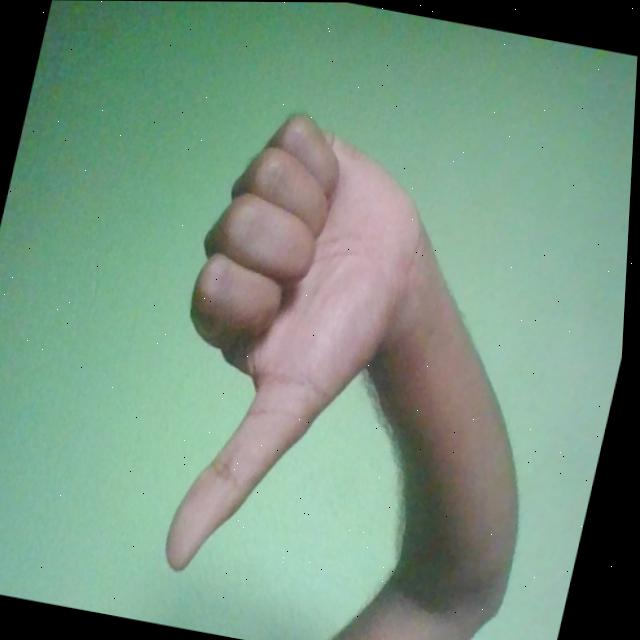Dislike: (137, 97, 447, 600)
